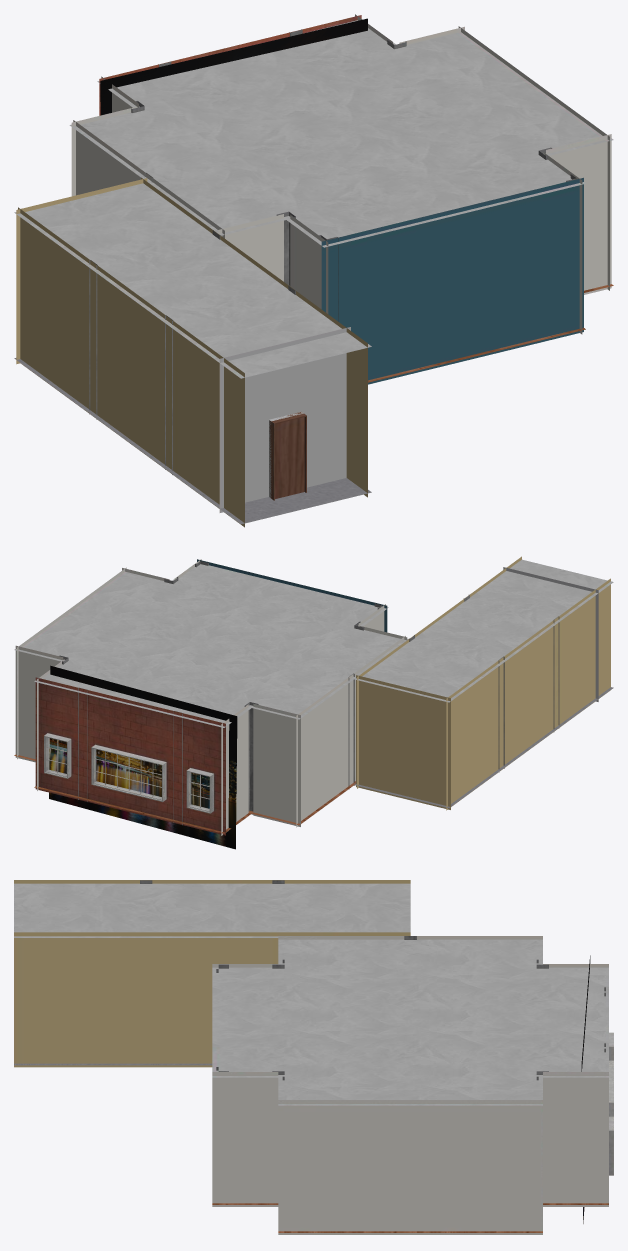
The model's file is room66.glb.
3 views of the same model, one above another, from view 1: azimuth 30°, elevation 25°; view 2: azimuth 150°, elevation 25°; view 3: azimuth 270°, elevation 25° (orthographic). The views are drawn at different scales.
Parts seen in each view (by area): view 1: ConfRoom_lambert1_0, lights-complex-skyscraper-long-exposure-singapore; view 2: ConfRoom_lambert1_0, lights-complex-skyscraper-long-exposure-singapore; view 3: ConfRoom_lambert1_0.
Part boxes in pixels (x1,y1,x2,y2): ConfRoom_lambert1_0: (14, 14, 613, 527); lights-complex-skyscraper-long-exposure-singapore: (100, 18, 367, 115); ConfRoom_lambert1_0: (14, 556, 613, 835); lights-complex-skyscraper-long-exposure-singapore: (49, 665, 237, 849); ConfRoom_lambert1_0: (14, 880, 613, 1234).
Bounding box in the file's own units: 16 × 5.4 × 18.15.
2 materials, 2 textured.
